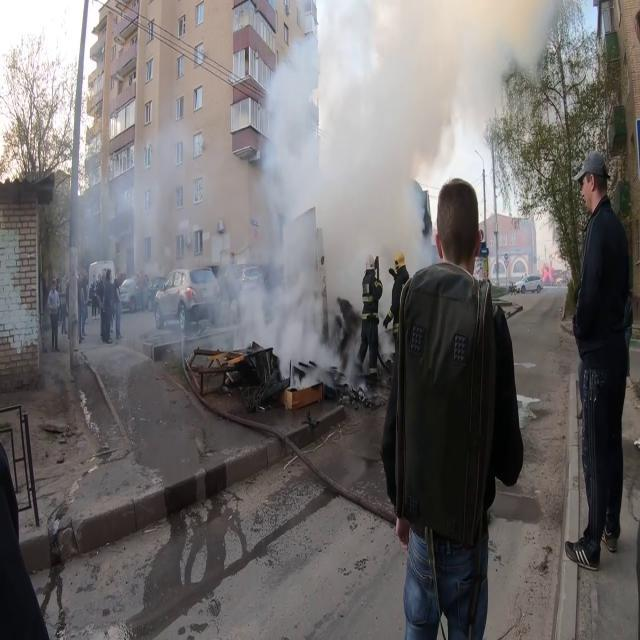Smoke: (322, 0, 510, 278), (210, 28, 340, 382)
